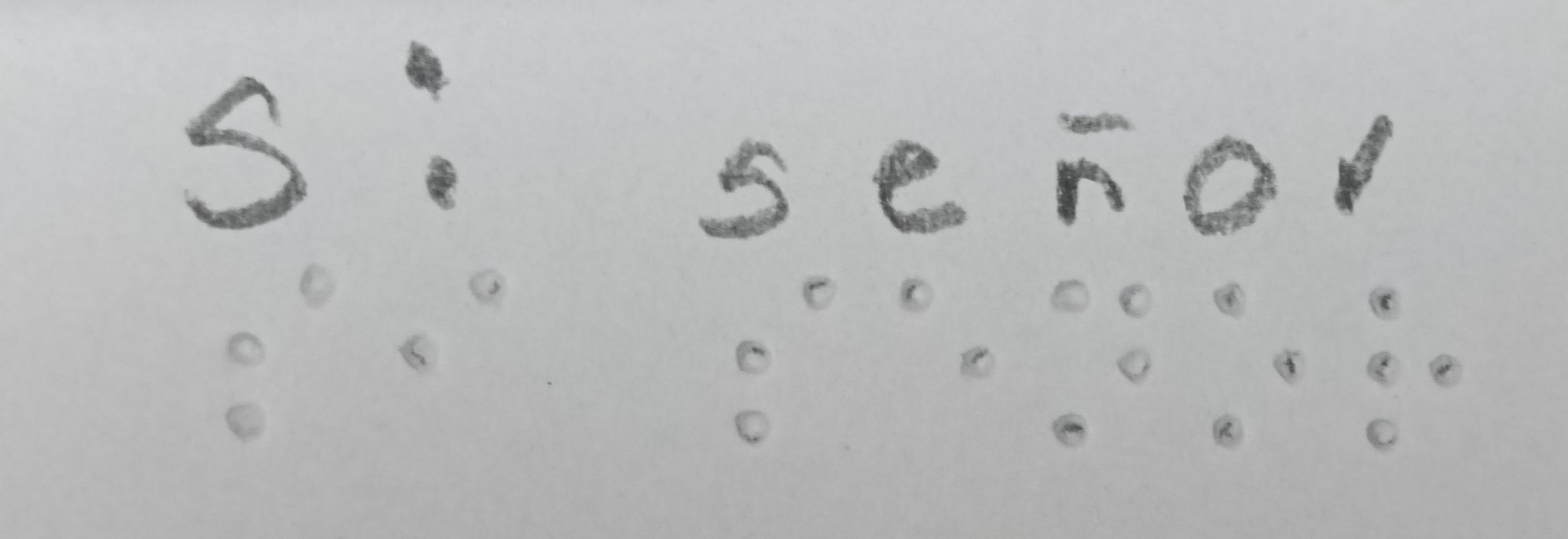e: (896, 249, 1006, 401)
i: (369, 260, 529, 389)
n: (1019, 270, 1173, 461)
o: (1187, 278, 1314, 474)
r: (1339, 272, 1467, 465)
s: (664, 270, 861, 463), (195, 258, 353, 451)
